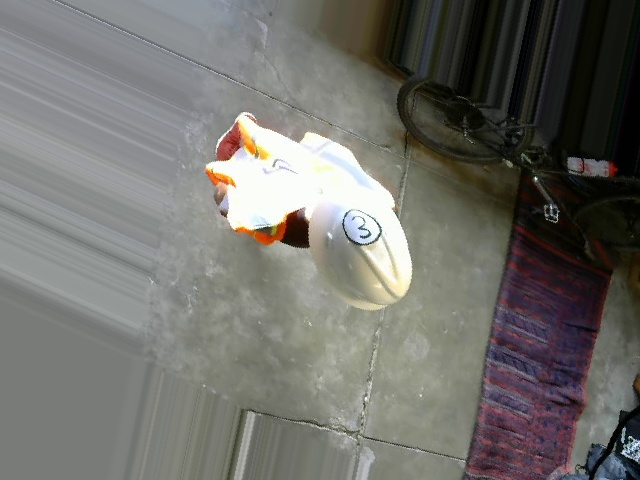three: (340, 203, 384, 253)
